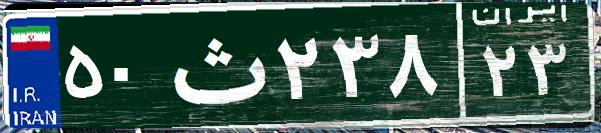0: (110, 28, 158, 105)
2: (273, 28, 330, 110), (475, 38, 525, 113)
3: (330, 28, 385, 110), (525, 38, 570, 115)
5: (57, 26, 110, 107)
8: (385, 28, 445, 110)
ث: (158, 15, 273, 115)
